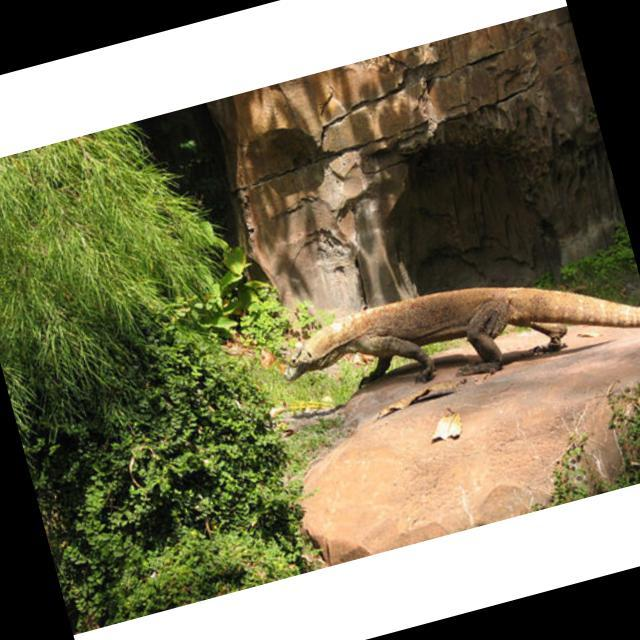KomodoDragon: (266, 235, 640, 434)
